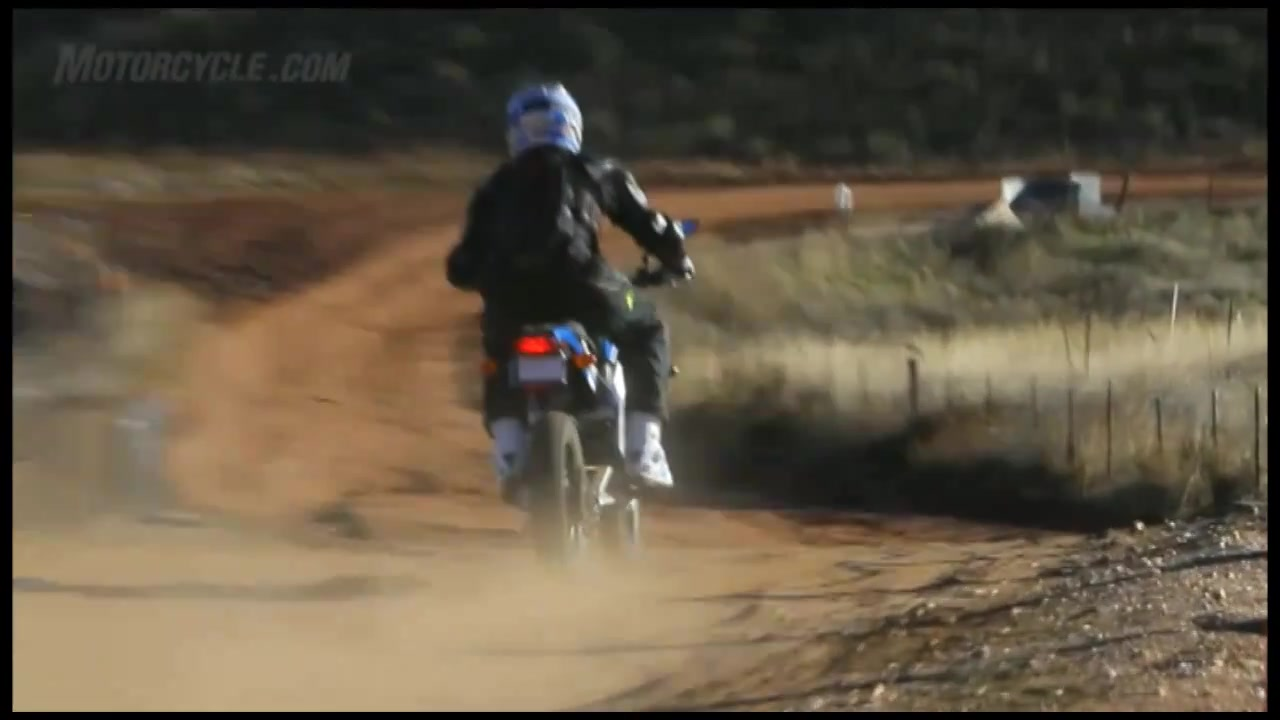motorbike: (469, 222, 701, 589)
